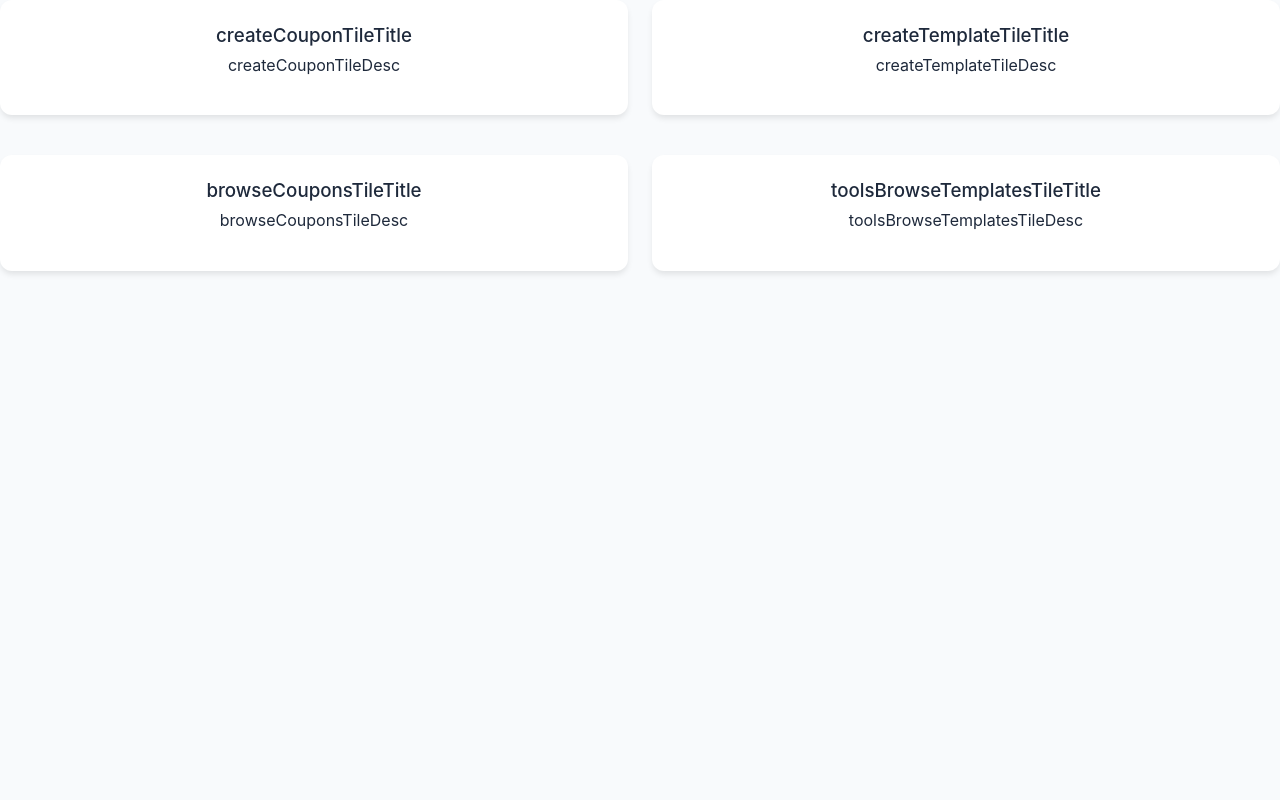
Test: CouponsSection › narrows the list to the chosen filter value
Click the heading "browseCouponsTileTitle": [314, 191] box [206, 179, 422, 202]
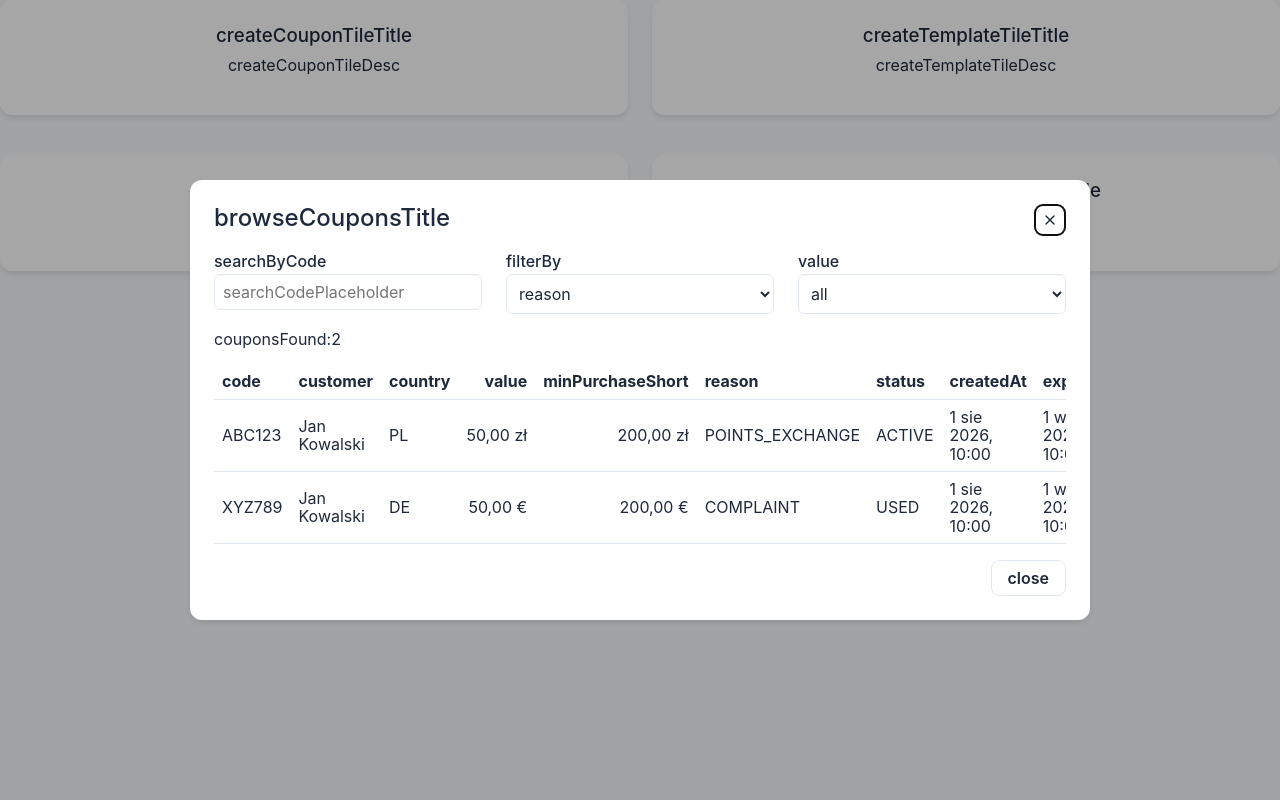
Select "status" in the dropdown labelled "filterBy": [640, 294] box [506, 274, 774, 314]
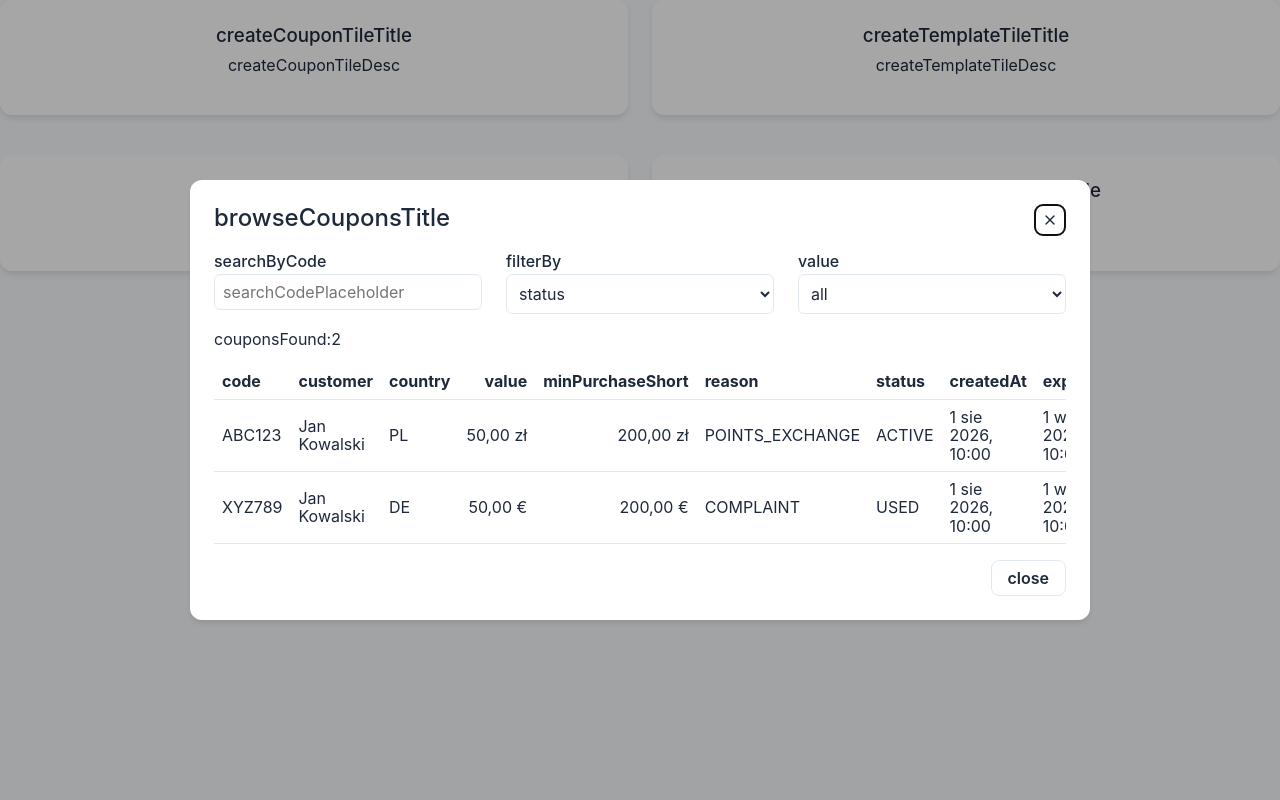
Select "USED" in the dropdown labelled "value": [932, 294] box [798, 274, 1066, 314]
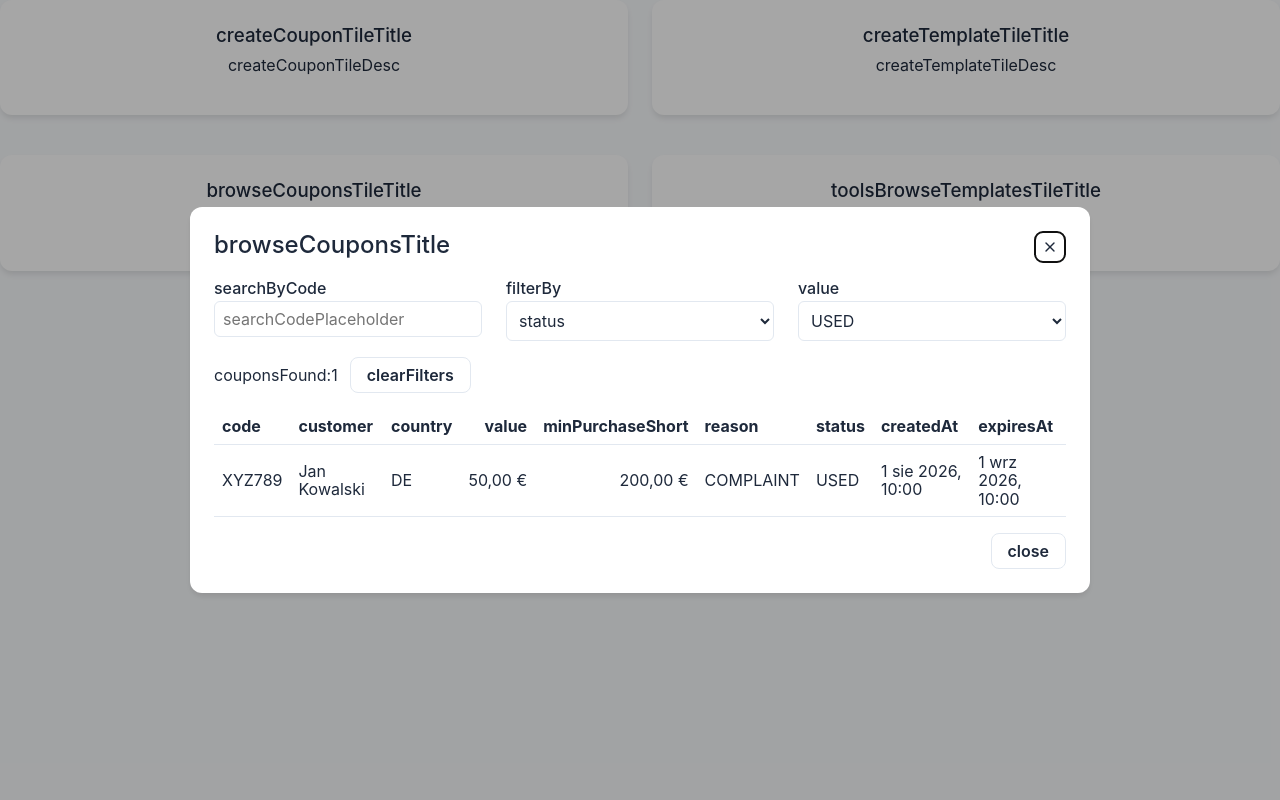
Result: the text "XYZ789" is shown at [214, 444, 290, 516]
Result: the text "ABC123" is gone
